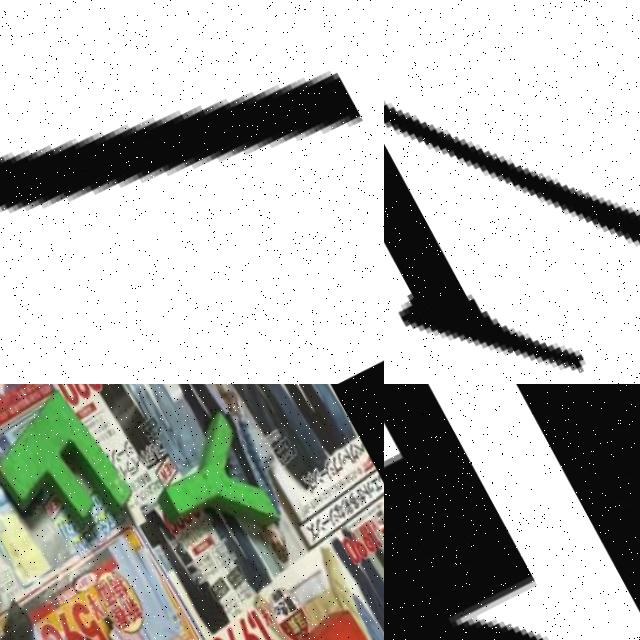2: (384, 0, 640, 384)
F: (0, 384, 139, 558)
J: (0, 0, 384, 351)
R: (384, 384, 640, 640)
Y: (139, 404, 281, 558)
